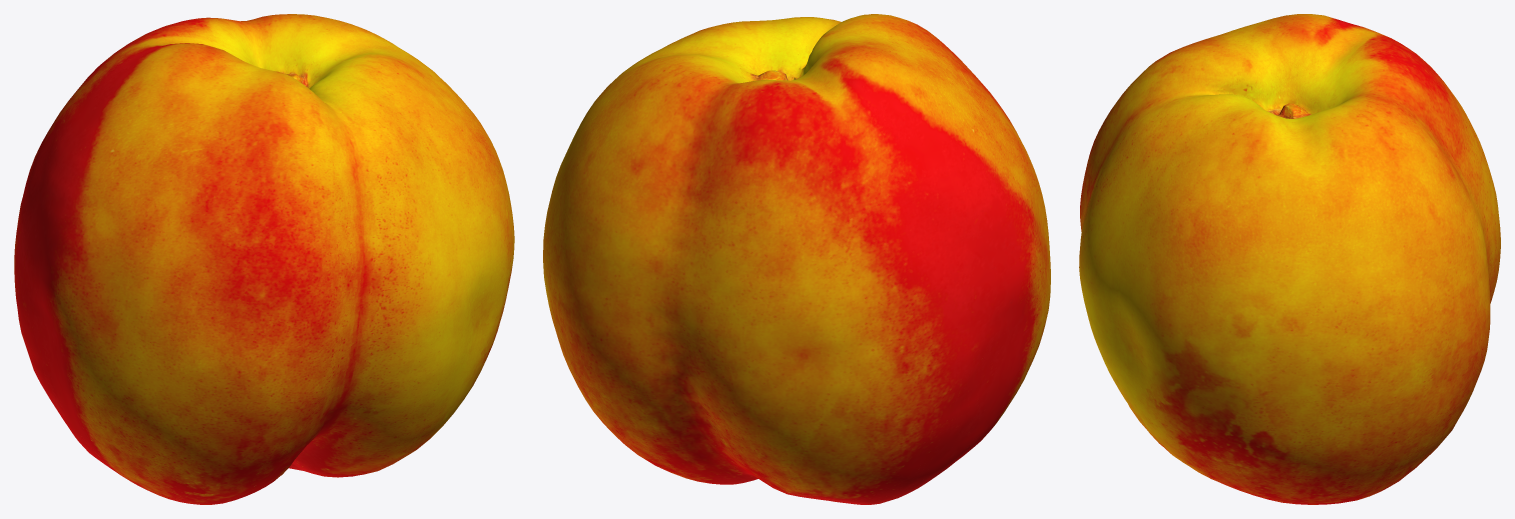
Rendered from nectarine.glb.
The picture shows the model from 3 angles, left to right: view 1: azimuth 30°, elevation 25°; view 2: azimuth 150°, elevation 25°; view 3: azimuth 270°, elevation 25°; orthographic projection. The views are drawn at different scales.
Parts seen in each view (by area): view 1: Object_2; view 2: Object_2; view 3: Object_2.
Boxes of the visible parts, x1,y1,x2,y2 form: Object_2: (14, 14, 514, 504); Object_2: (543, 14, 1050, 504); Object_2: (1079, 14, 1500, 504).
Bounding box in the file's own units: 2.02 × 1.92 × 1.78.
1 material, 1 textured.
